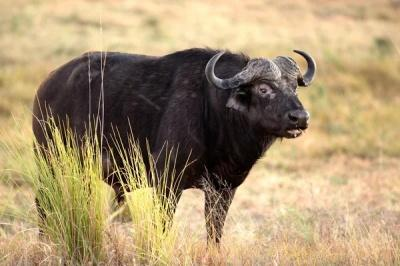buffalo: (32, 48, 314, 242)
